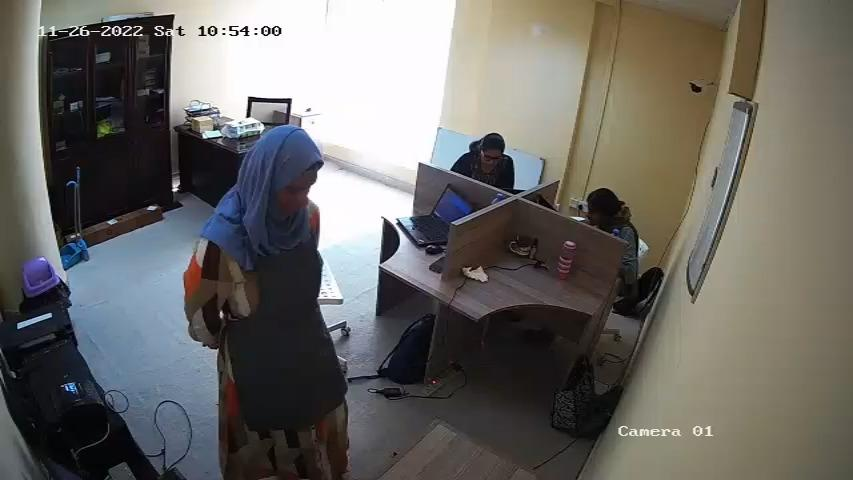apron: (220, 236, 324, 422)
